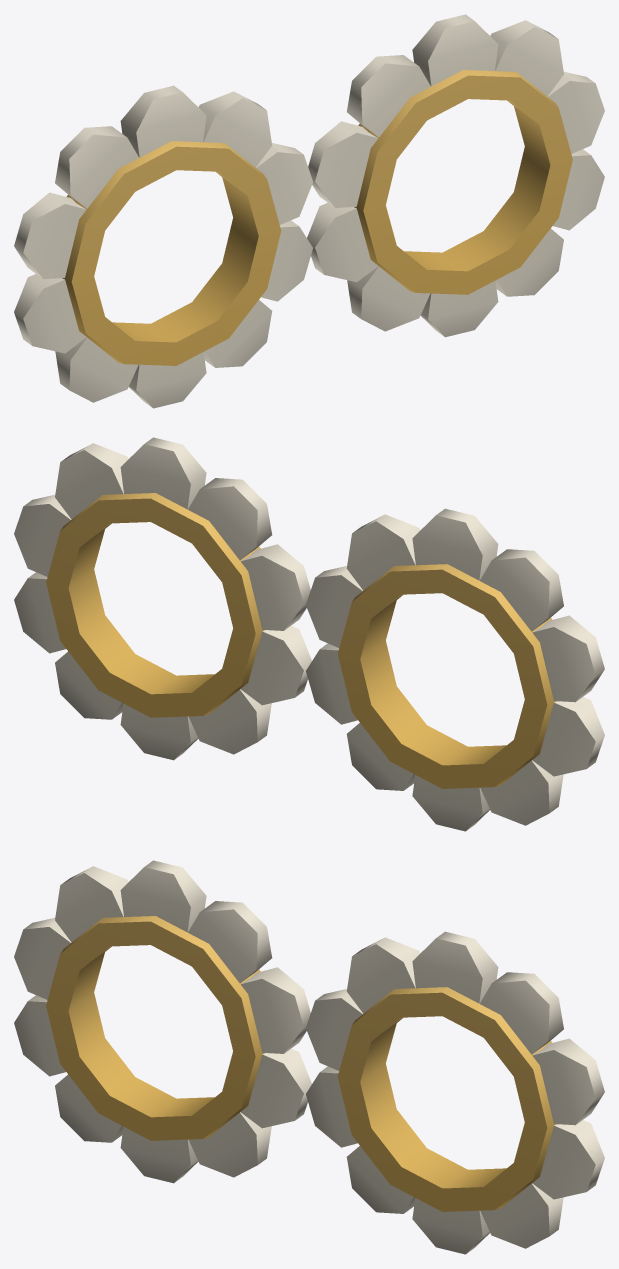
File: Eyewear_7.fbx
The picture shows the model from 3 angles, top to bottom: view 1: azimuth 30°, elevation 25°; view 2: azimuth 150°, elevation 25°; view 3: azimuth 330°, elevation 25°; orthographic projection.
Visible parts, largest first — view 1: Eyewear_7; view 2: Eyewear_7; view 3: Eyewear_7.
Boxes of the visible parts, x1,y1,x2,y2 form: Eyewear_7: [14, 14, 604, 408]; Eyewear_7: [14, 437, 604, 831]; Eyewear_7: [14, 860, 604, 1254].
Bounding box in the file's own units: 49.4 × 25.07 × 3.76.
